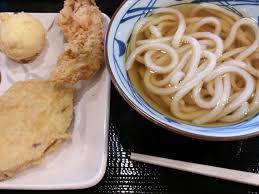bukkake: (111, 2, 259, 134)
satumaimo: (1, 82, 73, 176)
